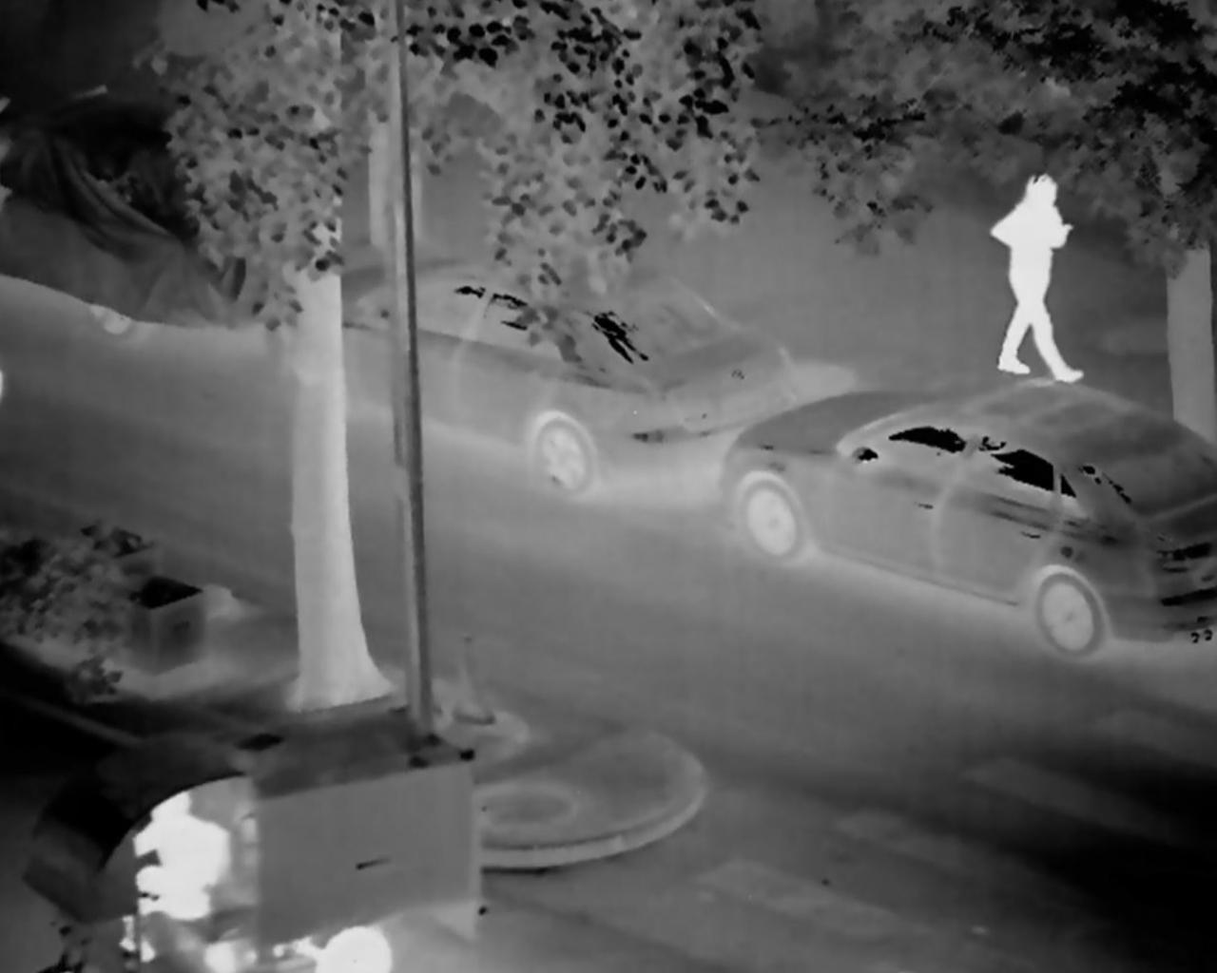person: (976, 169, 1091, 388), (121, 784, 234, 962)
